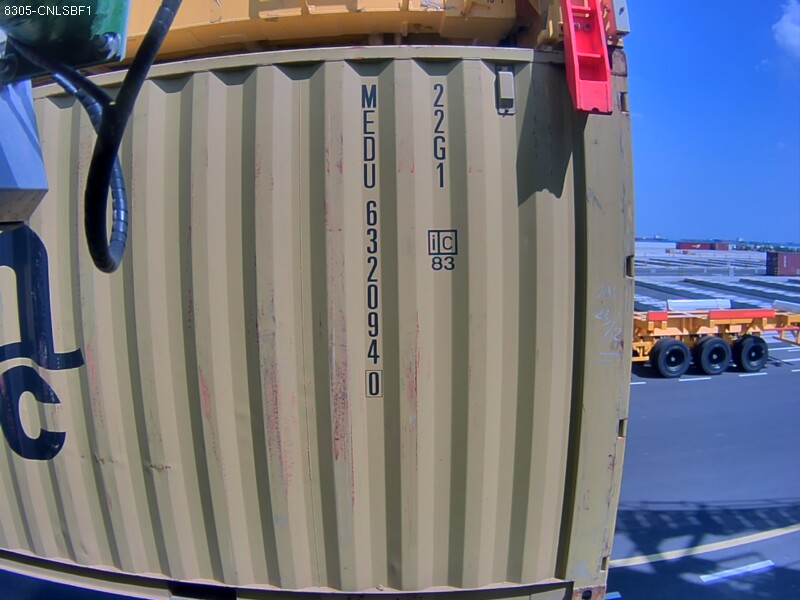container_no_door: (184, 36, 561, 600)
